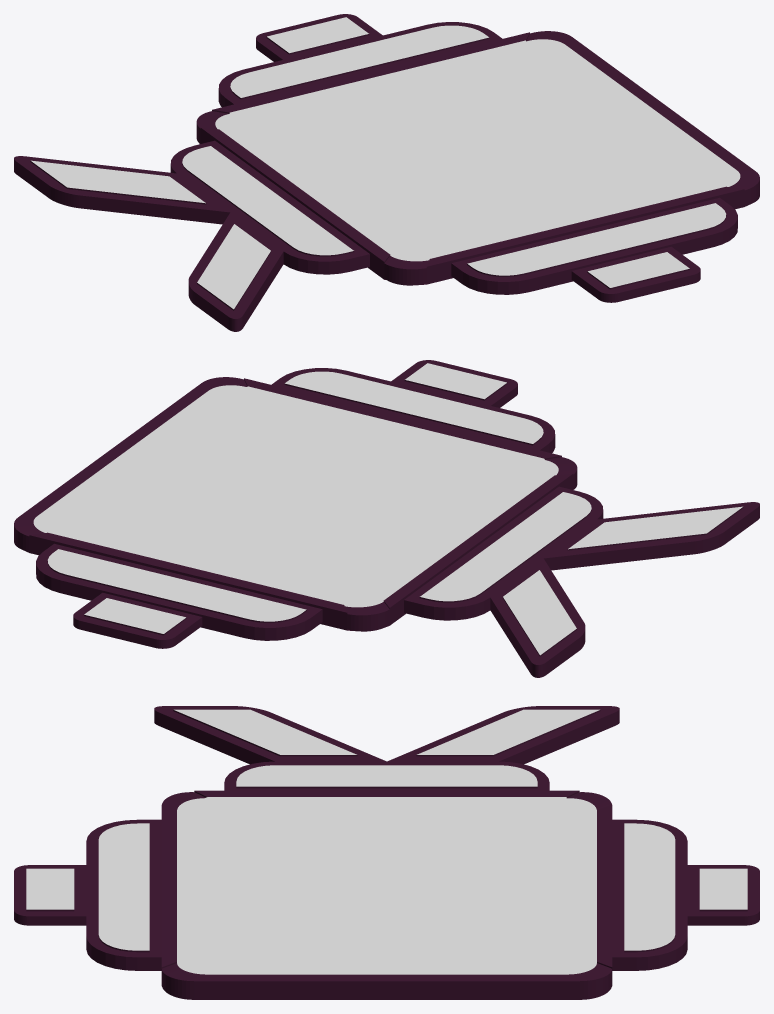
Rendered from ground.fbx.
3 renders of one model, top to bottom at view 1: azimuth 30°, elevation 25°; view 2: azimuth 150°, elevation 25°; view 3: azimuth 270°, elevation 25°, orthographic. The views are drawn at different scales.
Parts seen in each view (by area): view 1: Cube; view 2: Cube; view 3: Cube.
Boxes of the visible parts, x1,y1,x2,y2 form: Cube: (14,14,759,331); Cube: (14,360,759,677); Cube: (14,706,759,999).
Size of the model in its own units: 751 by 23.63 by 853.
